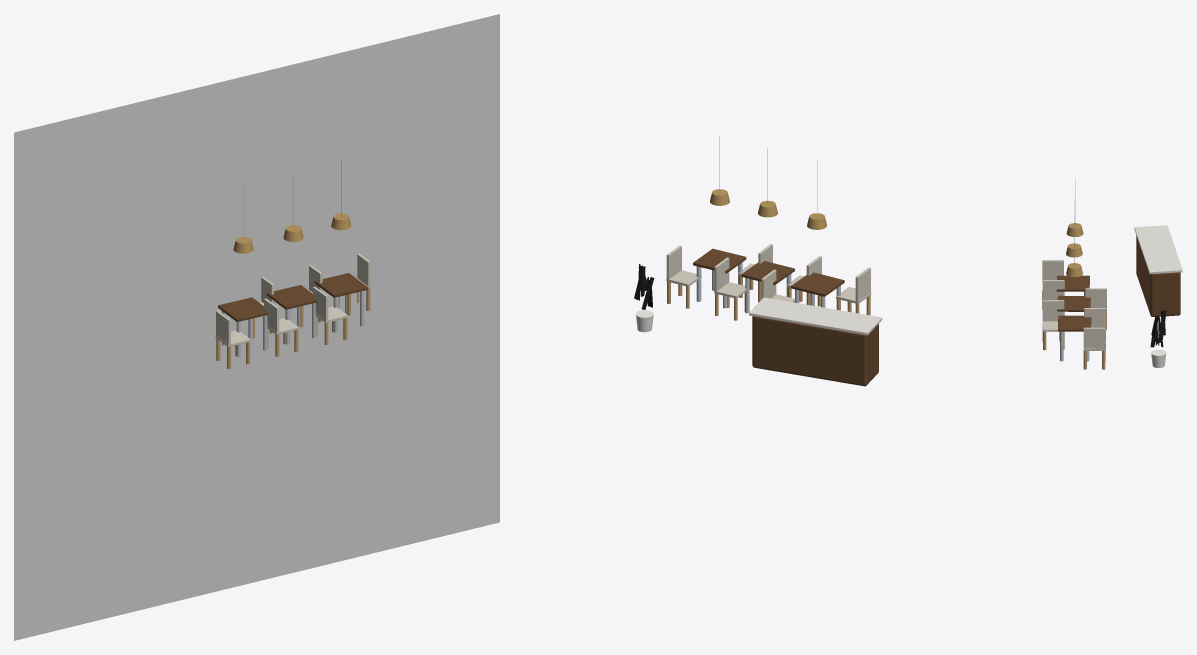
File: cafe-interior.glb
3 views of the same model, side by side, from view 1: azimuth 30°, elevation 25°; view 2: azimuth 150°, elevation 25°; view 3: azimuth 270°, elevation 25° (orthographic). The views are drawn at different scales.
Parts seen in each view (by area): view 1: object 1, object 2, object 52, object 14, object 33; view 2: object 12, object 13, object 14, object 52; view 3: object 12, object 13, object 52, object 64, object 14, object 58, object 33, object 20, object 39, object 26, object 45, object 71.
Boxes of the visible parts, x1=… form: object 1: x1=14, y1=14, x2=499, y2=640; object 2: x1=208, y1=221, x2=305, y2=389; object 52: x1=314, y1=273, x2=368, y2=297; object 14: x1=218, y1=297, x2=268, y2=321; object 33: x1=267, y1=285, x2=316, y2=309; object 12: x1=752, y1=316, x2=878, y2=386; object 13: x1=749, y1=297, x2=882, y2=335; object 14: x1=791, y1=272, x2=844, y2=296; object 52: x1=693, y1=248, x2=746, y2=273; object 12: x1=1136, y1=236, x2=1180, y2=316; object 13: x1=1134, y1=225, x2=1182, y2=274; object 52: x1=1058, y1=315, x2=1091, y2=331; object 64: x1=1083, y1=327, x2=1105, y2=348; object 14: x1=1056, y1=275, x2=1089, y2=291; object 58: x1=1042, y1=300, x2=1064, y2=321; object 33: x1=1057, y1=295, x2=1090, y2=311; object 20: x1=1042, y1=260, x2=1063, y2=281; object 39: x1=1043, y1=280, x2=1064, y2=300; object 26: x1=1085, y1=288, x2=1106, y2=309; object 45: x1=1084, y1=308, x2=1105, y2=328; object 71: x1=1151, y1=349, x2=1166, y2=367.
Size of the model in its own units: 10 by 10 by 2.98.
